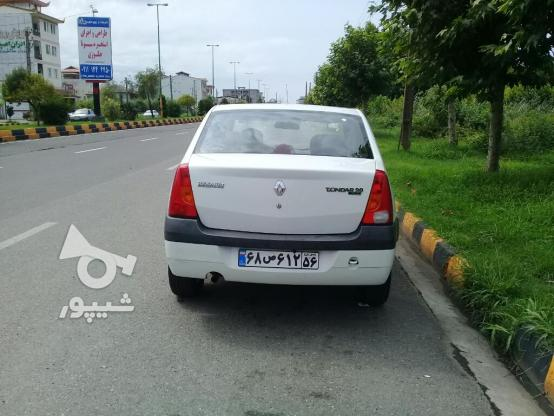car: (236, 251, 321, 270)
